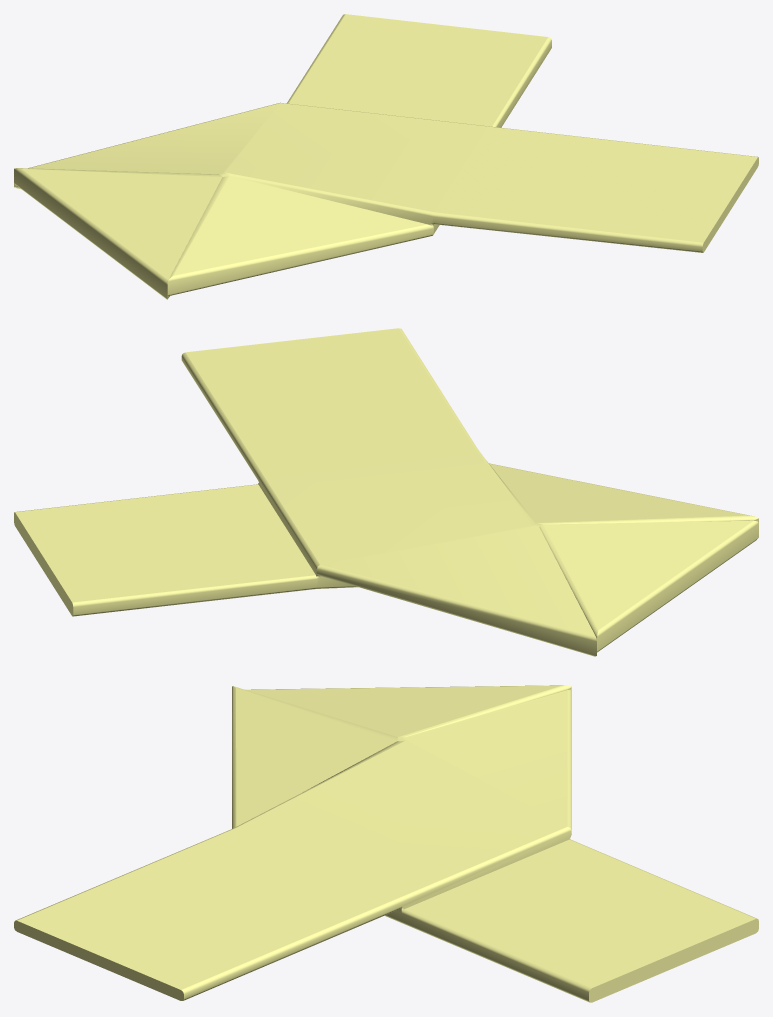
3 renders of one model, top to bottom at view 1: azimuth 30°, elevation 25°; view 2: azimuth 150°, elevation 25°; view 3: azimuth 270°, elevation 25°, orthographic. The views are drawn at different scales.
Visible parts, largest first — view 1: pCube6; view 2: pCube6; view 3: pCube6.
Boxes of the visible parts, <box> form: pCube6: <box>14,14,758,299</box>; pCube6: <box>14,328,758,656</box>; pCube6: <box>14,685,758,1002</box>.
Size of the model in its own units: 8.83 by 0.7977 by 9.04.
